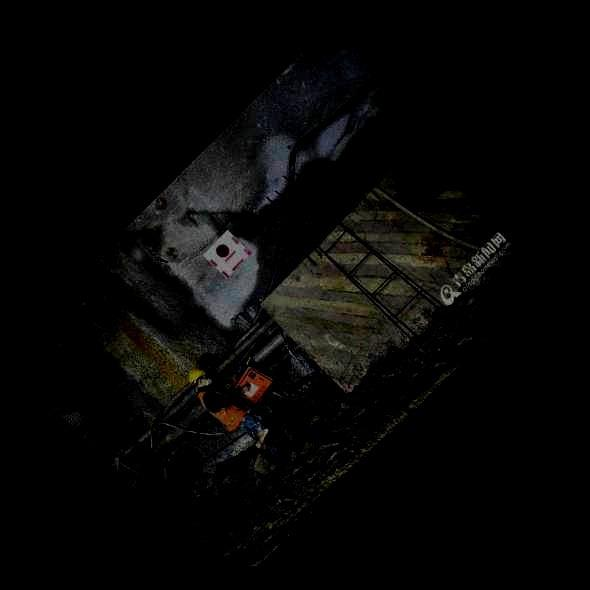helmet: (188, 367, 209, 388)
